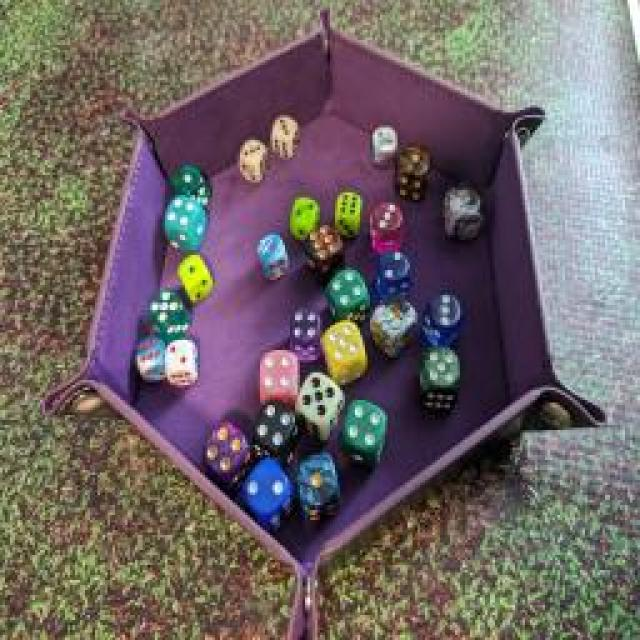dice_1: (295, 446, 350, 519), (366, 286, 419, 359), (388, 142, 440, 200), (326, 266, 369, 334), (437, 184, 485, 244), (175, 254, 217, 304), (170, 164, 210, 211), (254, 228, 286, 284)
dice_2: (239, 453, 296, 535), (165, 334, 207, 394), (374, 246, 416, 304), (287, 192, 325, 238), (366, 121, 396, 171)
dice_3: (421, 290, 464, 355), (368, 195, 408, 255), (236, 135, 274, 187), (268, 114, 302, 161)
dice_4: (338, 395, 390, 467), (201, 414, 249, 491), (249, 393, 299, 465), (159, 194, 211, 251), (283, 301, 325, 359), (254, 350, 298, 402)
dice_5: (415, 342, 467, 418), (320, 310, 368, 388), (294, 371, 351, 434), (143, 288, 195, 342)
dice_6: (305, 221, 347, 279), (132, 332, 168, 378), (333, 187, 365, 235)
